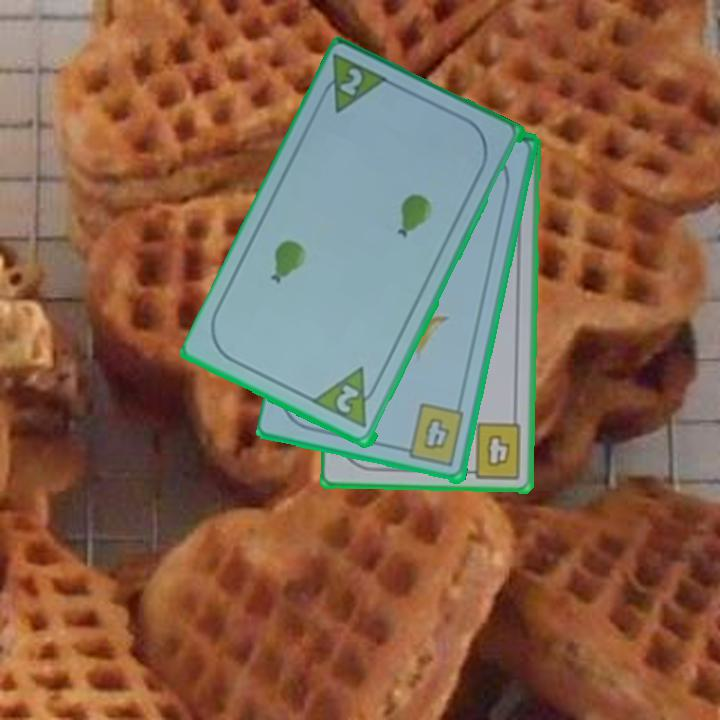2p: (314, 51, 394, 118), (332, 382, 362, 417)
4b: (396, 401, 467, 470), (460, 419, 525, 481)
